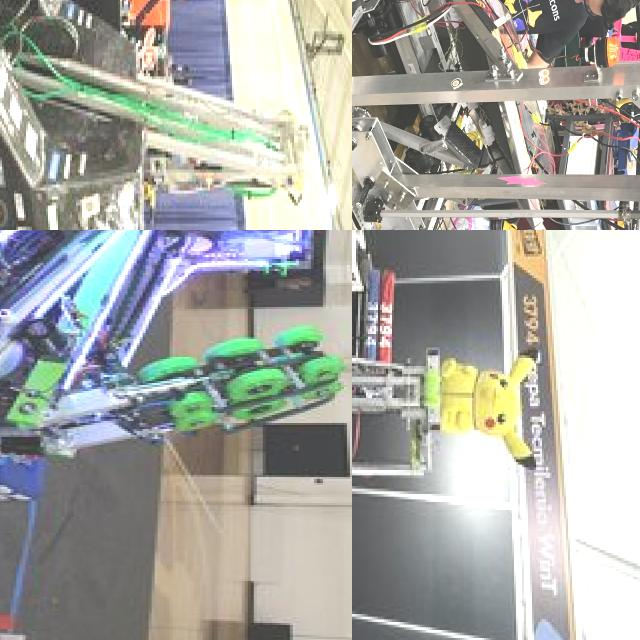FRC-Robots: (0, 230, 340, 534), (0, 0, 329, 230), (352, 0, 640, 230), (352, 285, 445, 532)
